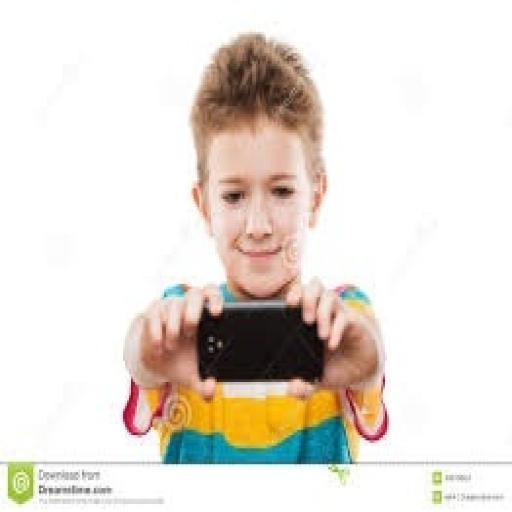texting: (119, 29, 389, 464)
